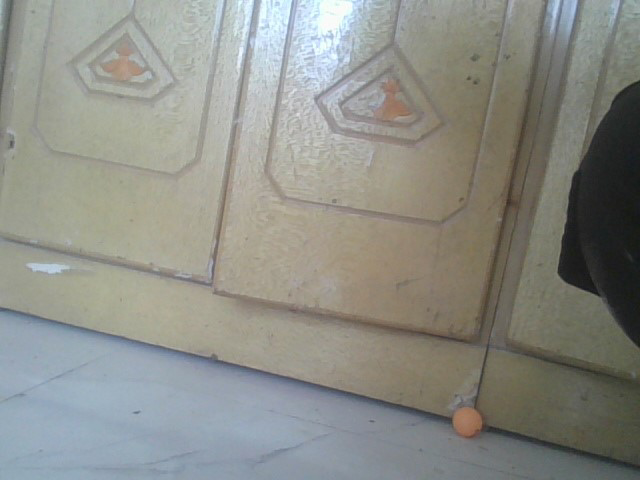ball: (451, 408, 483, 438)
